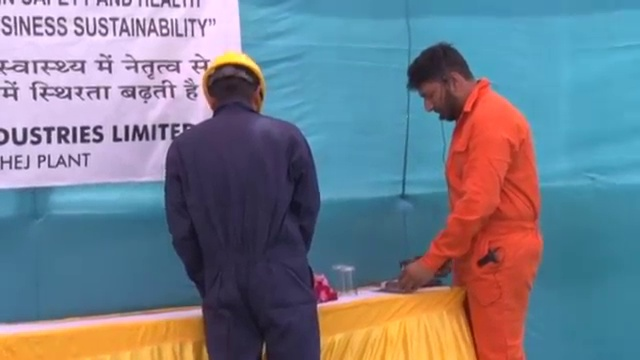helmet: (197, 50, 266, 104)
helmet_off: (406, 42, 471, 123)
helmet_on: (200, 52, 267, 120)
person: (162, 51, 323, 360), (396, 41, 546, 360)
